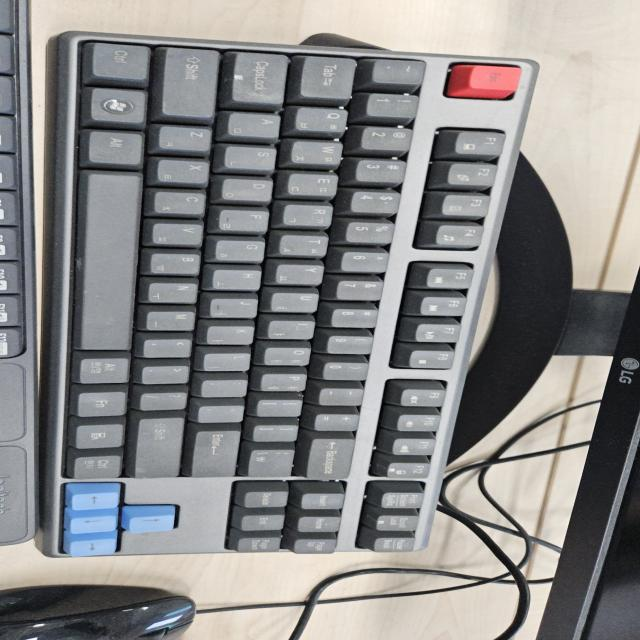Keyboard: (17, 25, 541, 558)
Mouse: (2, 582, 198, 638)
